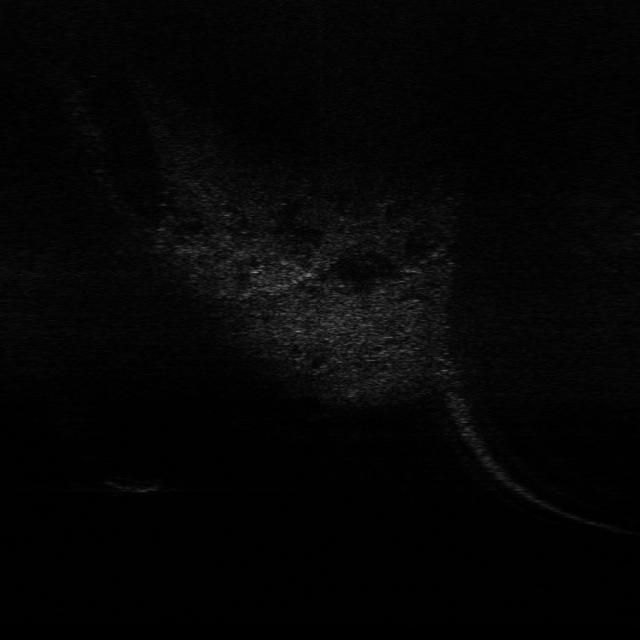cube: (100, 472, 166, 493)
